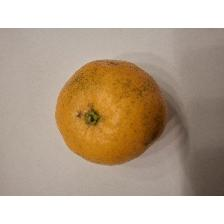Mandarine: (50, 55, 170, 169)
